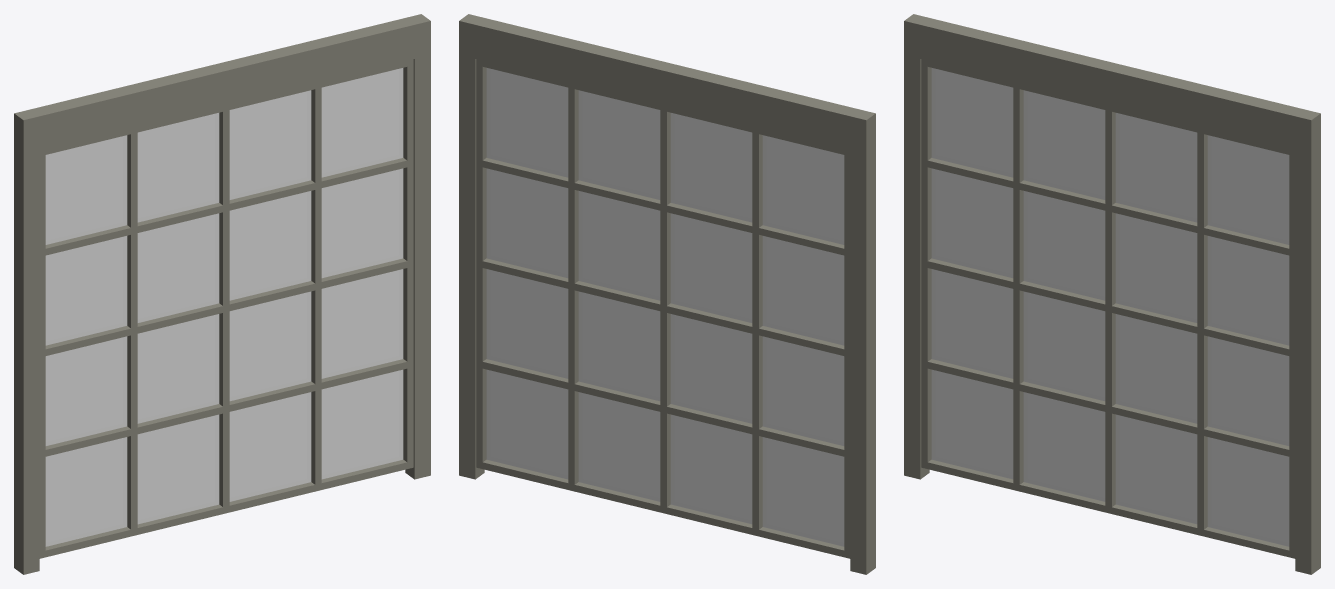
Rendered from es-policaA_h2000_soutiencollar.fbx.
3 renders of one model, left to right at view 1: azimuth 30°, elevation 25°; view 2: azimuth 150°, elevation 25°; view 3: azimuth 330°, elevation 25°, orthographic.
Parts seen in each view (by area): view 1: es-policaA_h2000_stain; view 2: es-policaA_h2000_stain; view 3: es-policaA_h2000_stain.
Boxes of the visible parts, <box> form: es-policaA_h2000_stain: <box>14,14,430,574</box>; es-policaA_h2000_stain: <box>459,14,875,574</box>; es-policaA_h2000_stain: <box>904,14,1320,574</box>.
Size of the model in its own units: 187 by 200 by 7.5.
Materials: 2 (1 with a texture image).
